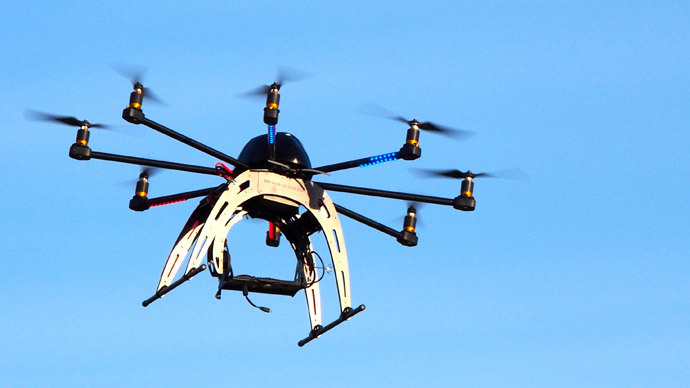drone: (24, 58, 533, 350)
